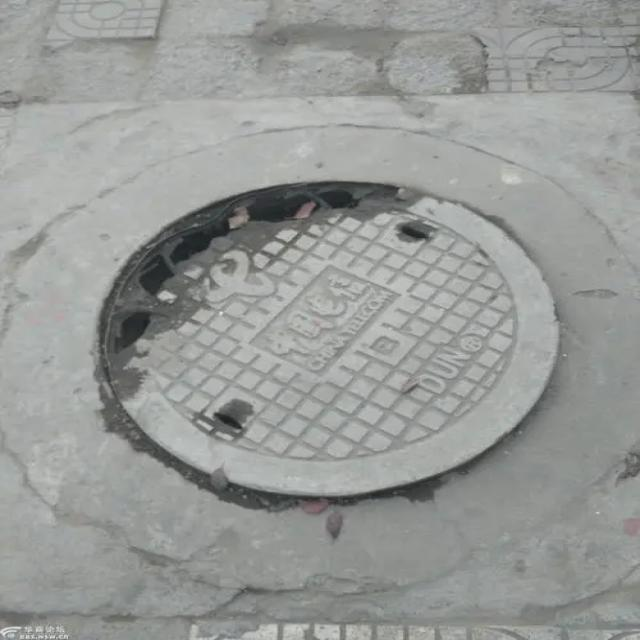manhole: (100, 181, 558, 496)
